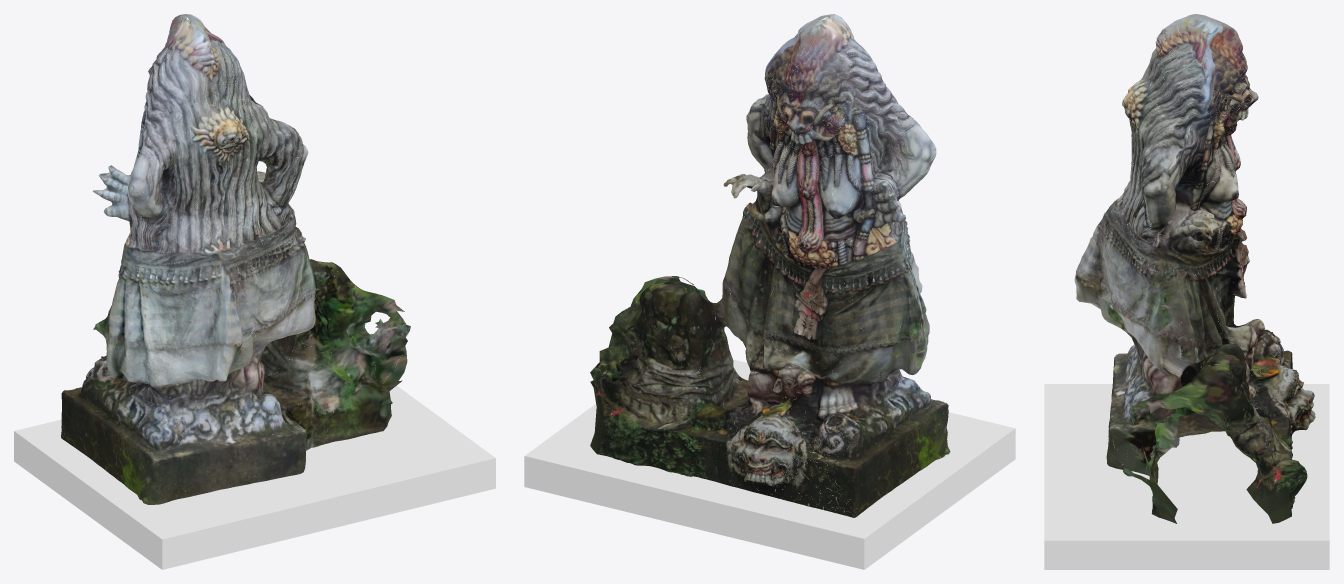
File: patung-rangda.glb
3 renders of one model, left to right at view 1: azimuth 30°, elevation 25°; view 2: azimuth 150°, elevation 25°; view 3: azimuth 270°, elevation 25°, orthographic. The views are drawn at different scales.
Parts seen in each view (by area): view 1: Object_4, Object_8; view 2: Object_4, Object_8; view 3: Object_4, Object_8.
Boxes of the visible parts, x1,y1,x2,y2 form: Object_4: (61, 14, 410, 504); Object_8: (14, 372, 495, 569); Object_4: (590, 14, 950, 517); Object_8: (524, 354, 1015, 569); Object_4: (1074, 14, 1315, 523); Object_8: (1044, 384, 1329, 569).
Size of the model in its own units: 1.08 by 1.46 by 0.8299.
2 materials, 1 textured.
